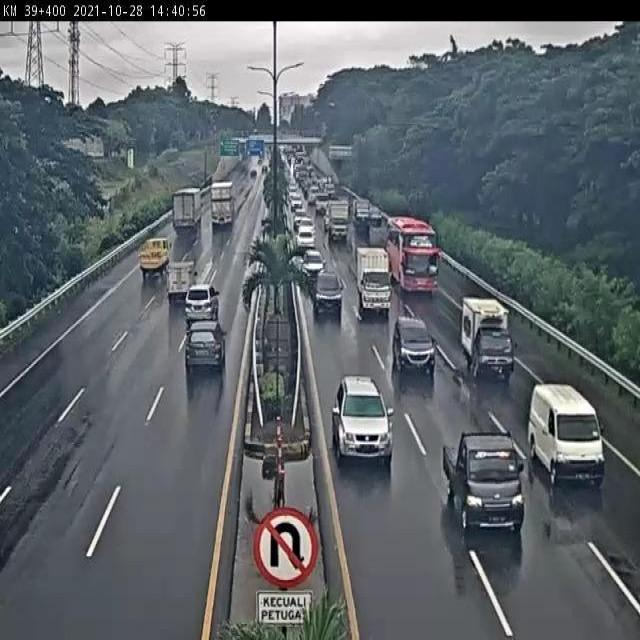bus-l-: (385, 216, 441, 295)
car: (527, 382, 607, 487), (444, 430, 524, 530), (332, 374, 394, 462), (393, 316, 436, 372), (184, 320, 226, 373), (184, 281, 220, 324), (311, 268, 343, 316), (299, 247, 326, 280)
small truck: (164, 259, 197, 301), (138, 236, 171, 277)
truck-m-: (355, 247, 392, 314)
truck-s-: (459, 295, 517, 380)
